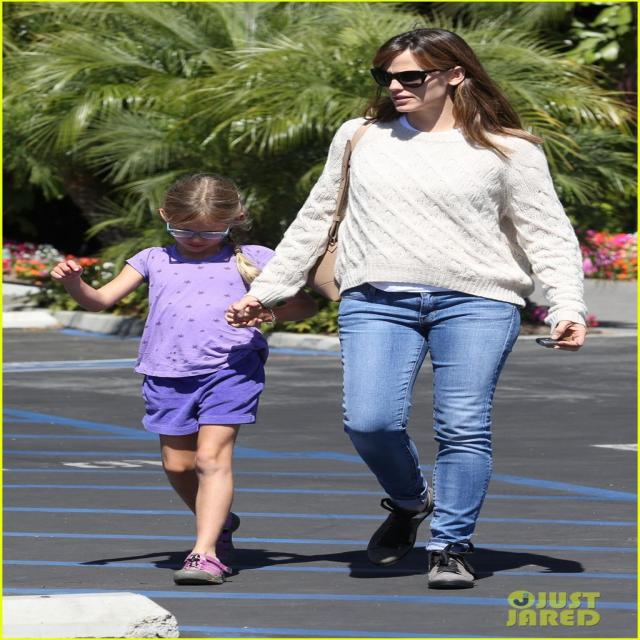Face: (366, 43, 464, 130), (151, 188, 237, 259)
